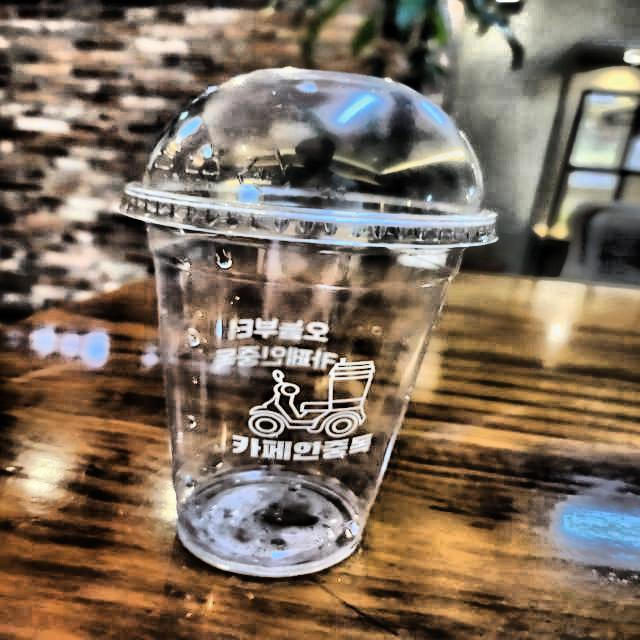plastic cup: (107, 31, 510, 608)
